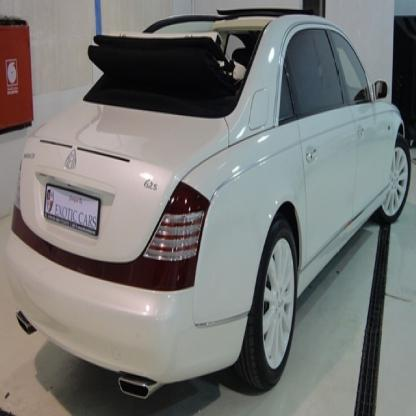Vehicle: (5, 6, 412, 402)
